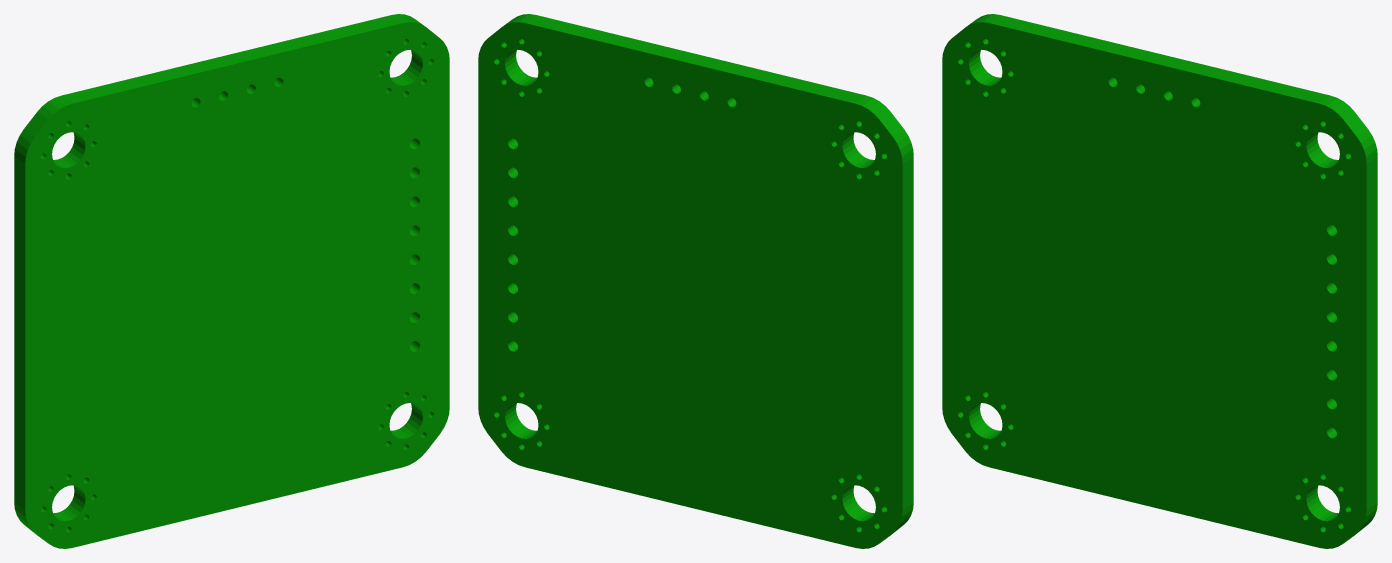
Rendered from Board_step_STEP__Open_CASCADE_STEP_translator_6_8_4_1_1_step_STEP_1.3dxml.glb.
3 views of the same model, side by side, from view 1: azimuth 30°, elevation 25°; view 2: azimuth 150°, elevation 25°; view 3: azimuth 330°, elevation 25° (orthographic).
Parts seen in each view (by area): view 1: Open CASCADE STEP translator 6.8 4.1.1.step.STEP; view 2: Open CASCADE STEP translator 6.8 4.1.1.step.STEP; view 3: Open CASCADE STEP translator 6.8 4.1.1.step.STEP.
Boxes of the visible parts, x1,y1,x2,y2 form: Open CASCADE STEP translator 6.8 4.1.1.step.STEP: (14, 14, 449, 548); Open CASCADE STEP translator 6.8 4.1.1.step.STEP: (478, 14, 913, 548); Open CASCADE STEP translator 6.8 4.1.1.step.STEP: (942, 14, 1377, 548).
Bounding box in the file's own units: 0.039 × 0.039 × 0.00176.
